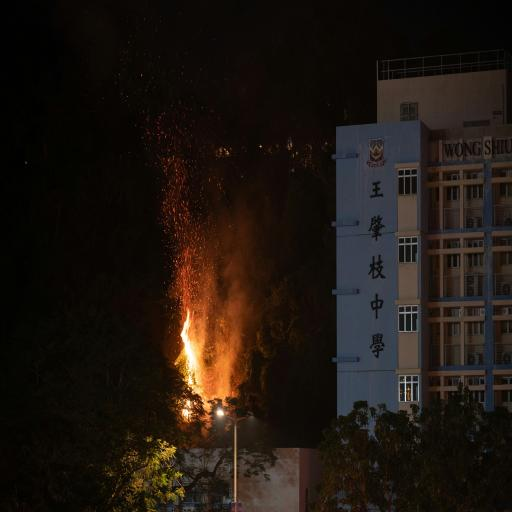wildfire: (108, 109, 310, 484)
